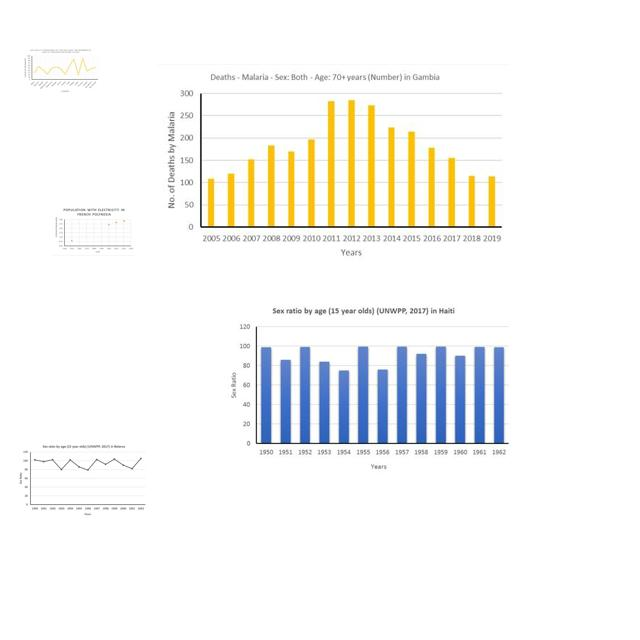Graph: (157, 64, 509, 263), (222, 301, 518, 474), (16, 441, 150, 518), (53, 206, 135, 256), (22, 48, 99, 94)
